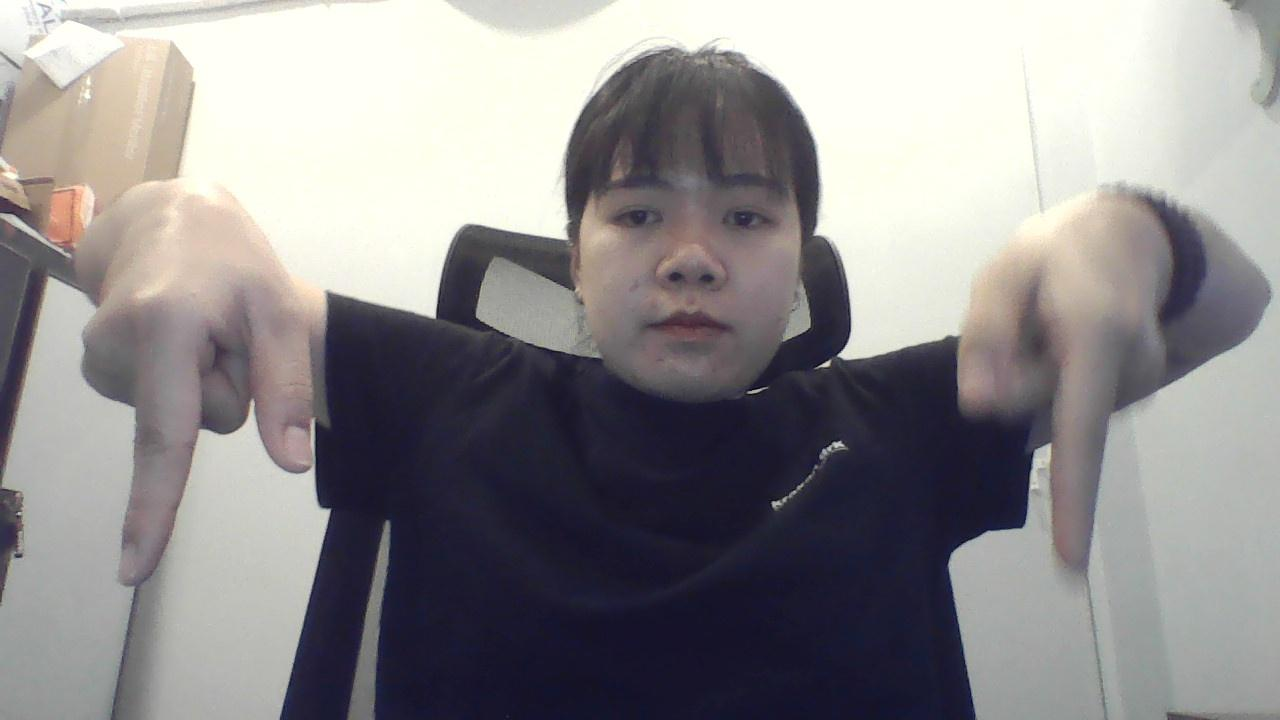Q: (932, 182, 1181, 599), (70, 229, 329, 597)
